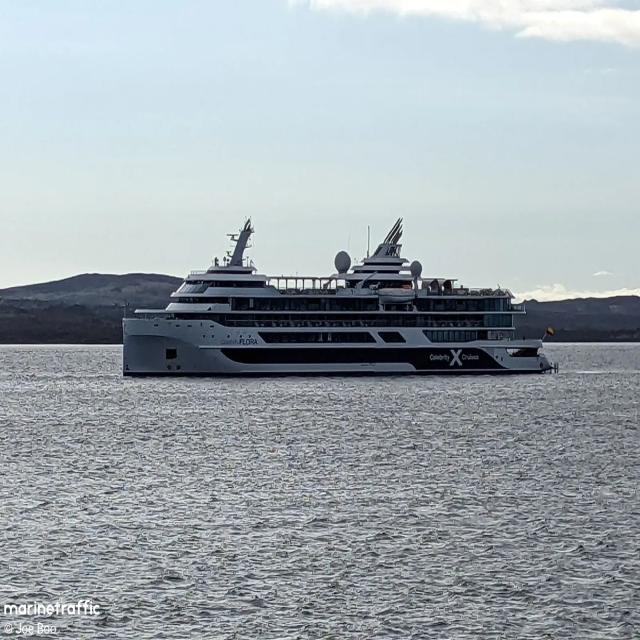Cruise: (122, 218, 558, 376)
